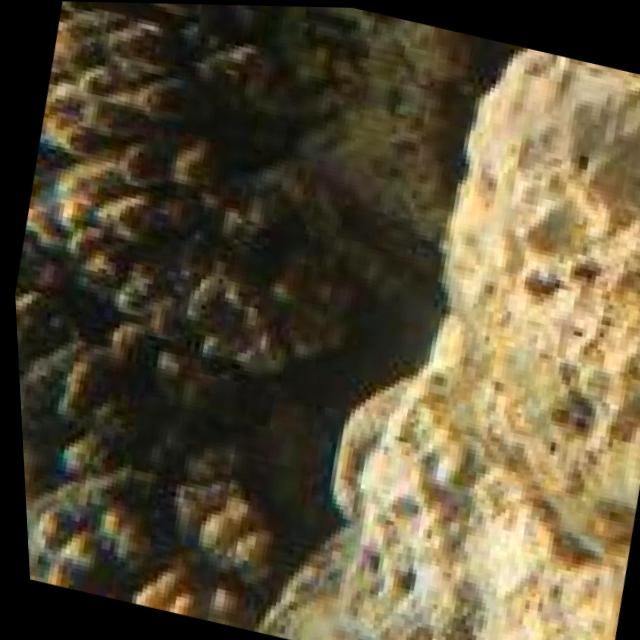Dead Coral: (0, 0, 393, 635)
